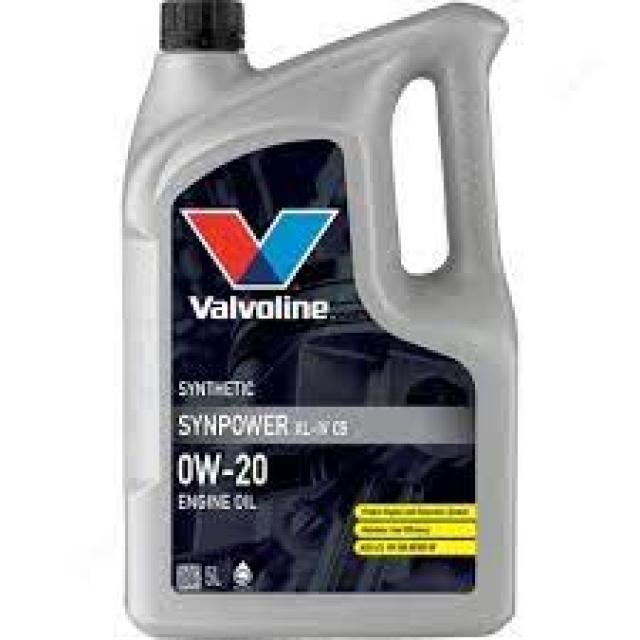motor_oil: (119, 0, 526, 640)
